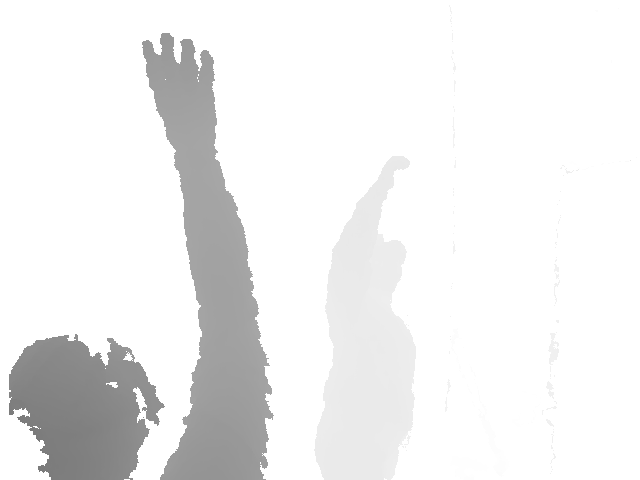hand: (140, 33, 217, 155), (375, 155, 410, 194)
head: (7, 333, 164, 480), (370, 238, 405, 312)
person: (6, 33, 274, 480), (312, 155, 419, 480)
